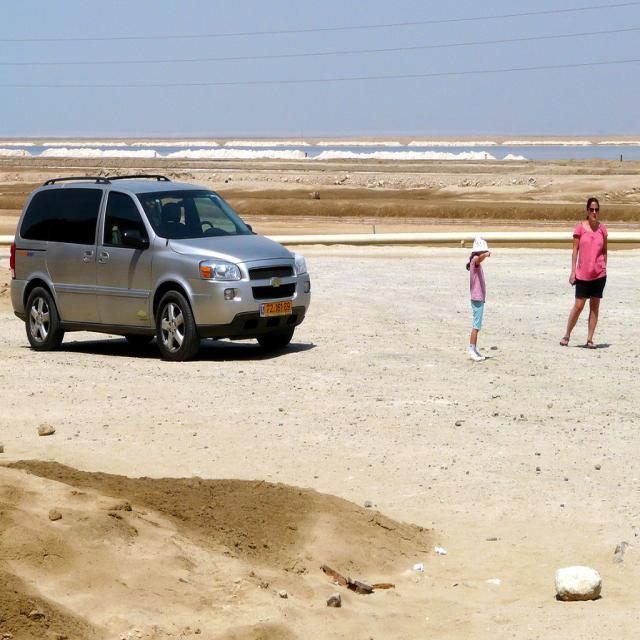car: (7, 169, 312, 360)
